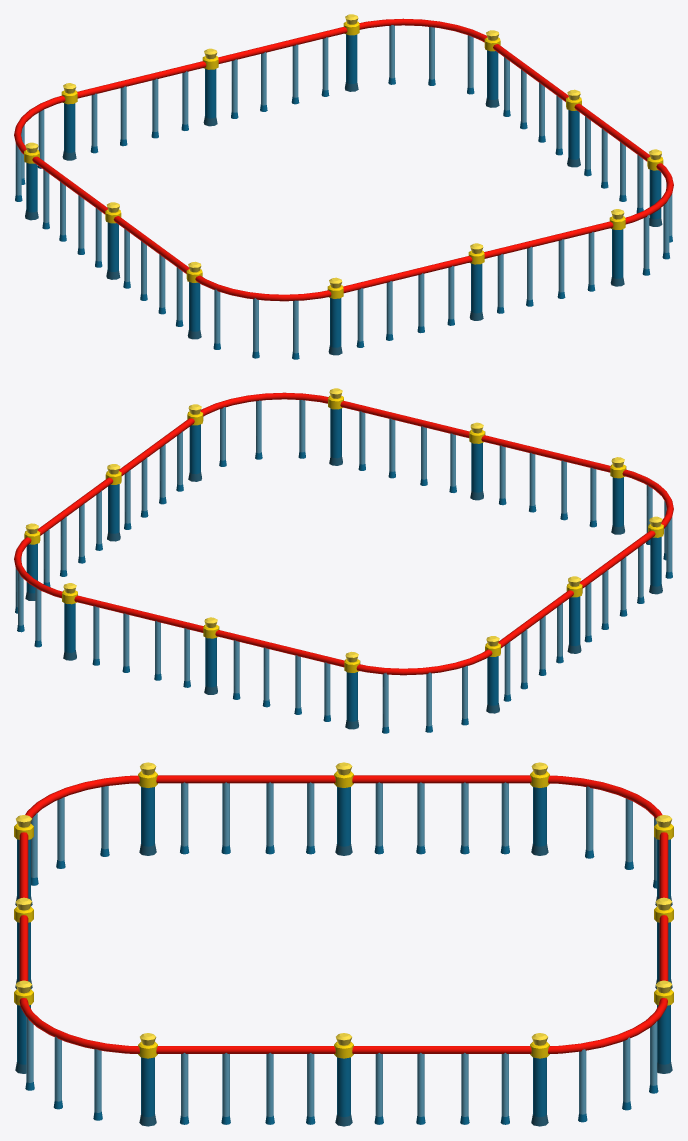
Rendered from fence_spin.fbx.
3 renders of one model, top to bottom at view 1: azimuth 30°, elevation 25°; view 2: azimuth 150°, elevation 25°; view 3: azimuth 270°, elevation 25°, orthographic. The views are drawn at different scales.
Visible parts, largest first — view 1: fence_spin; view 2: fence_spin; view 3: fence_spin.
Boxes of the visible parts, bbox=[...] form: fence_spin: bbox=[14, 14, 673, 359]; fence_spin: bbox=[14, 388, 673, 733]; fence_spin: bbox=[14, 762, 673, 1126].
Size of the model in its own units: 505 by 74.33 by 505.
